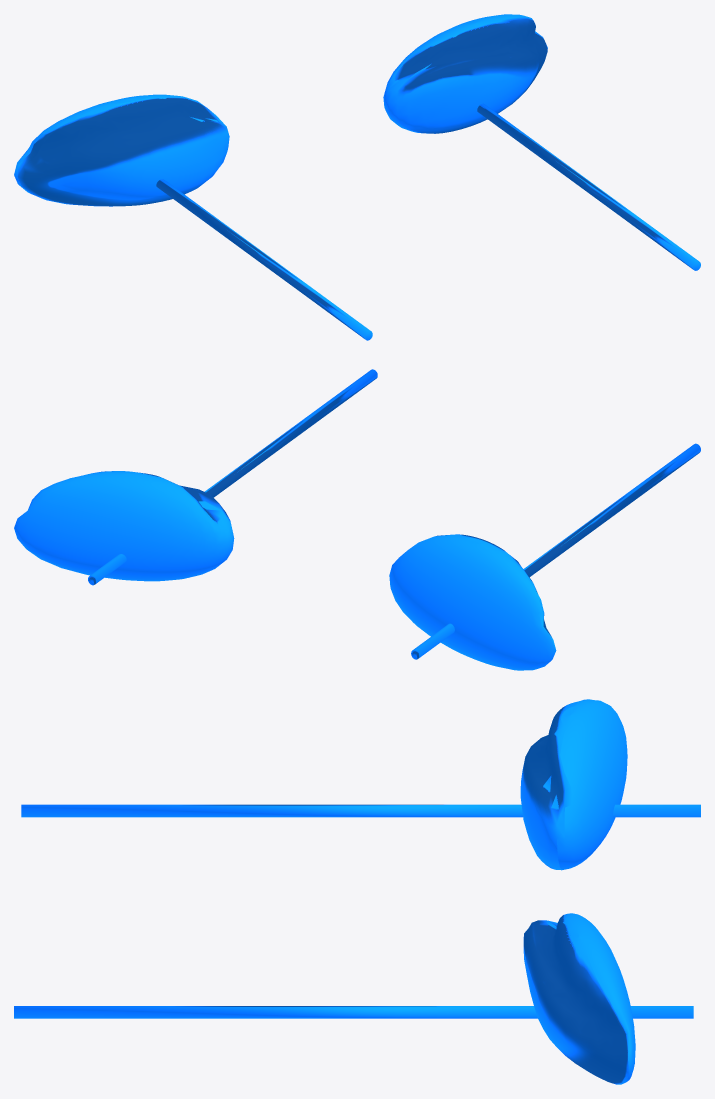
The model's file is Laser-Blue.glb.
3 views of the same model, one above another, from view 1: azimuth 30°, elevation 25°; view 2: azimuth 150°, elevation 25°; view 3: azimuth 270°, elevation 25° (orthographic). The views are drawn at different scales.
Parts seen in each view (by area): view 1: Bored.002; view 2: Bored.002; view 3: Bored.002.
Boxes of the visible parts, bbox=[...] form: Bored.002: bbox=[14, 14, 700, 340]; Bored.002: bbox=[14, 369, 700, 670]; Bored.002: bbox=[14, 699, 700, 1084].
Bounding box in the file's own units: 0.3809 × 0.0766 × 0.3481.
2 materials, 2 textured.
